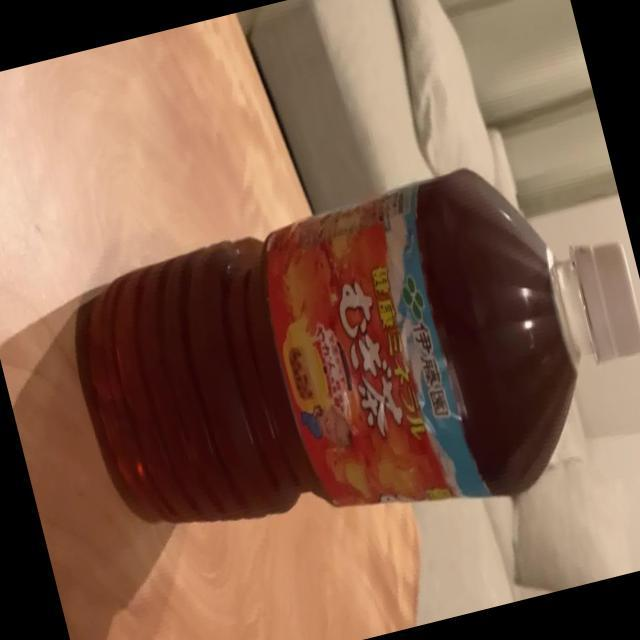good: (50, 132, 640, 590)
